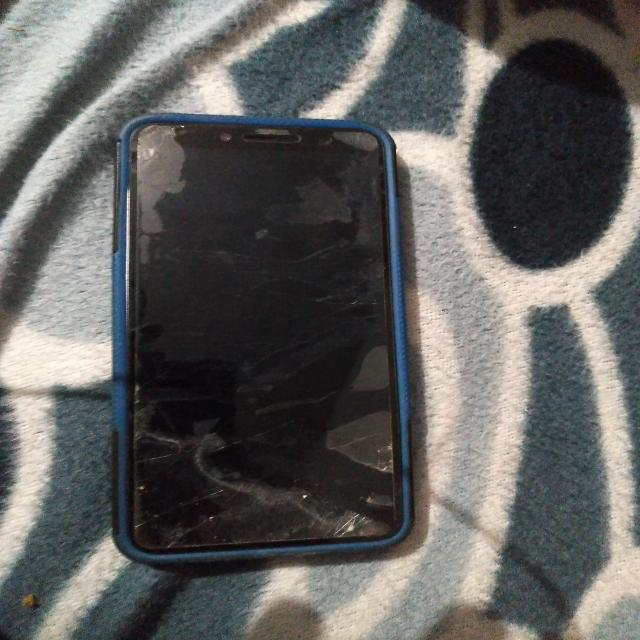screen crack: (314, 421, 425, 568), (121, 117, 185, 176)
